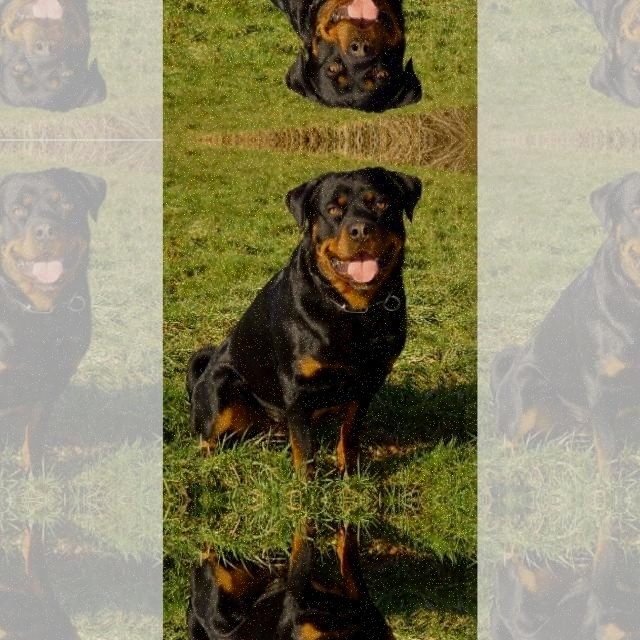dog: (191, 149, 434, 471), (191, 0, 434, 131), (191, 529, 434, 640)
